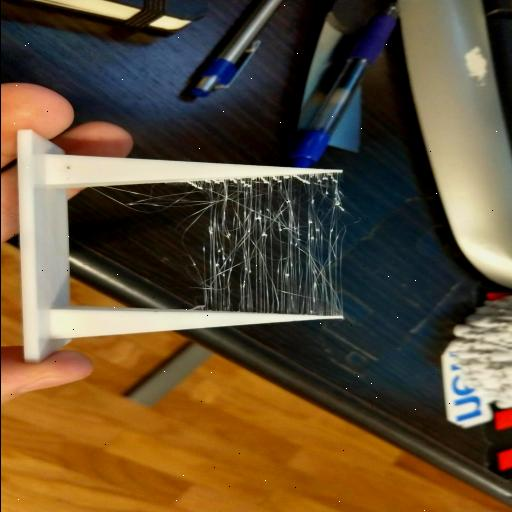stringing: (76, 172, 346, 316)
